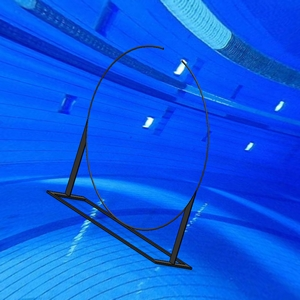circle: (46, 43, 212, 271)
